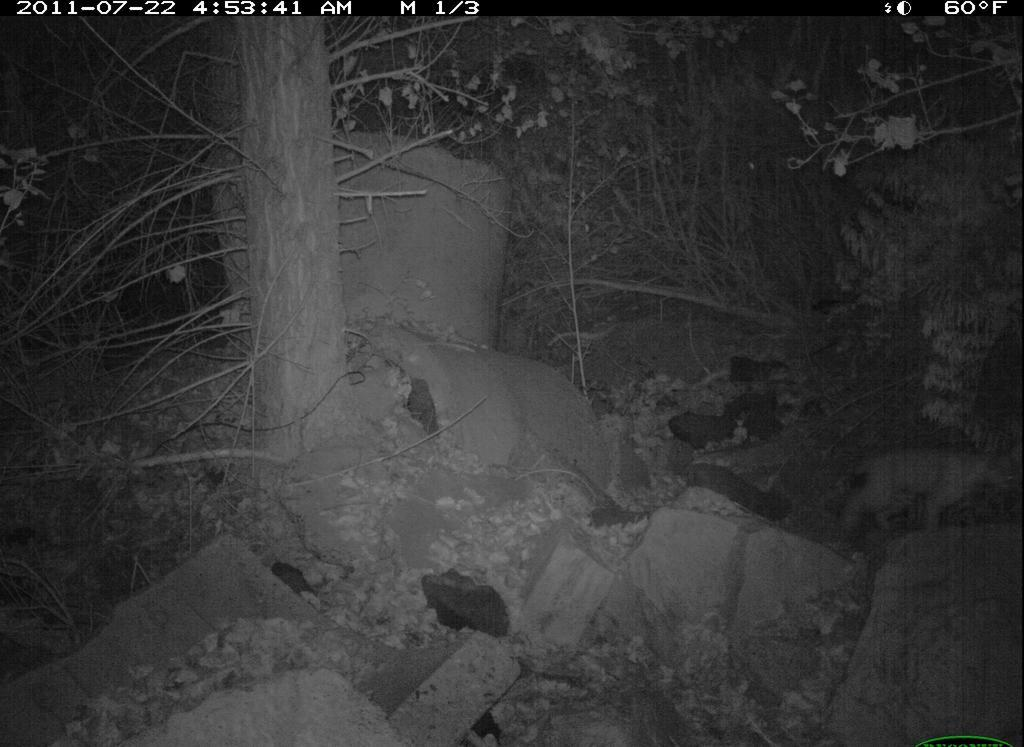bobcat: (840, 430, 1012, 540)
